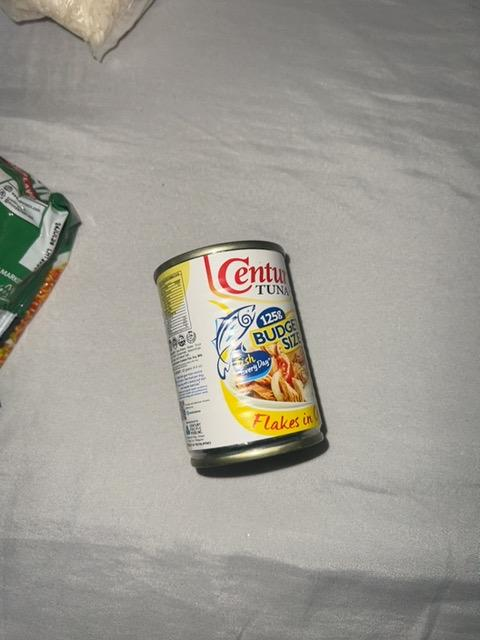canned-goods: (154, 238, 333, 472)
